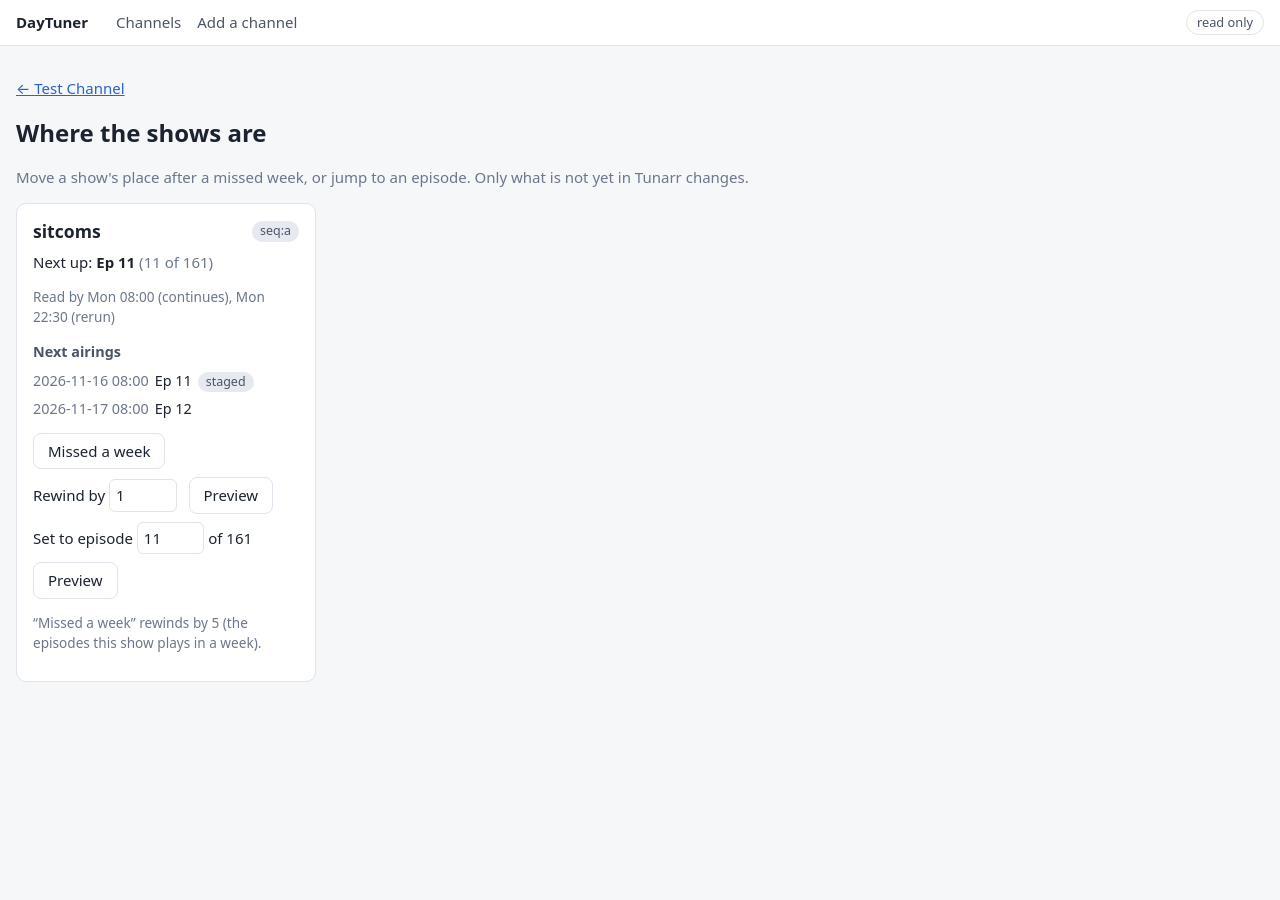
Test: the cursors page › says why when the channel is busy, and leaves the page usable
Expected: the heading "sitcoms" is shown, [33,218,101,245]
Click the button "Missed a week". click: (99, 451)
box: [33,433,166,470]
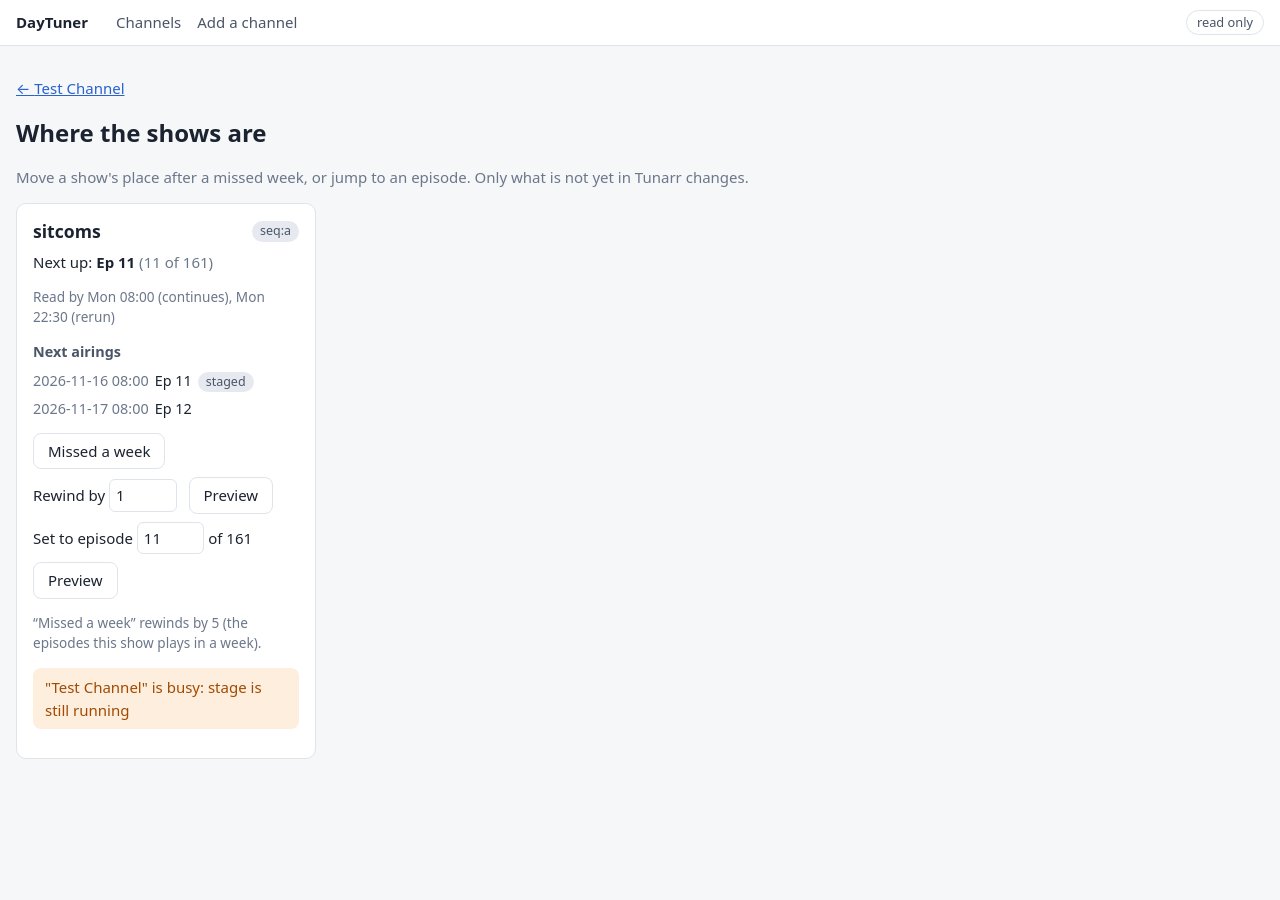
Now the message shows "is busy", box [45,677,262,720]
